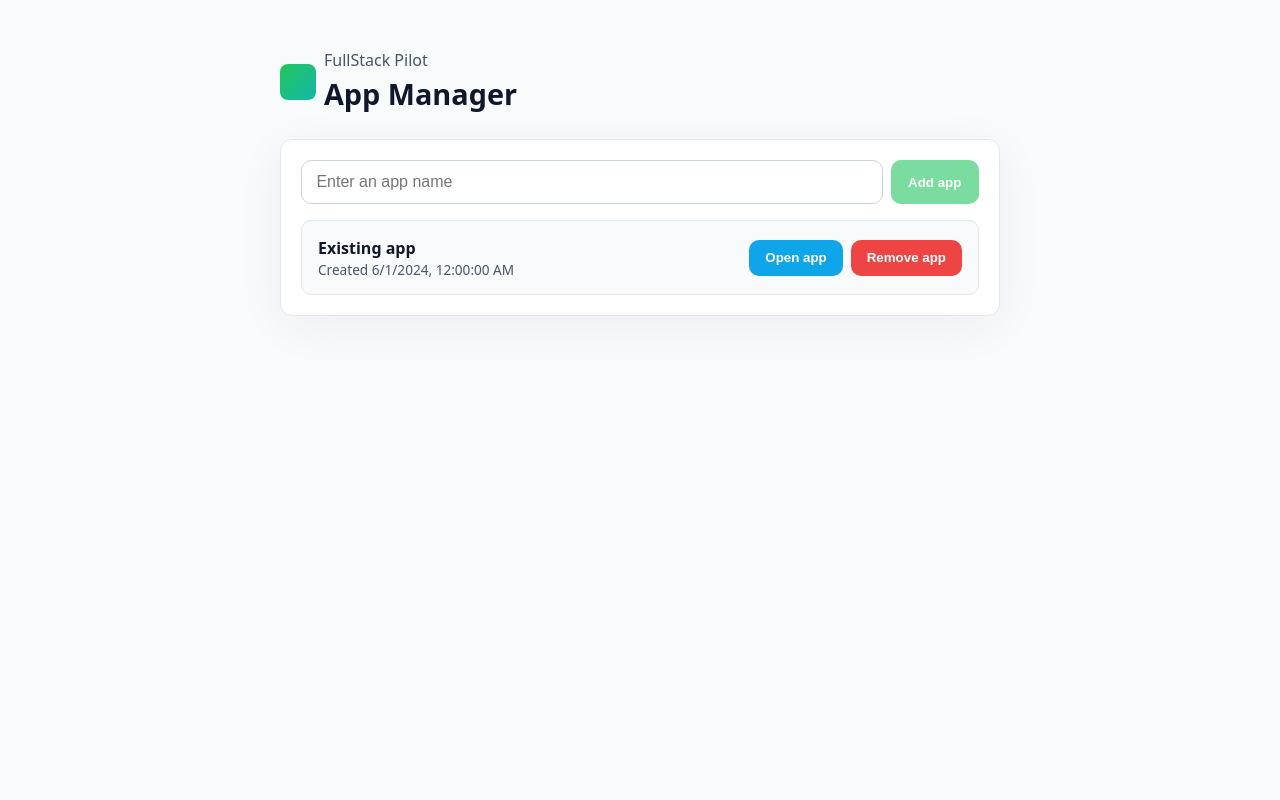
Scenario: App › opens an app modal and closes it with the close button
Expected: the text "Existing app" is shown, 318,237 -> 416,259
What coordinates should you click on to do the following:
click the button "Open app"
I would click on:
 (796, 258)
Its box is 749,240 -> 843,276.
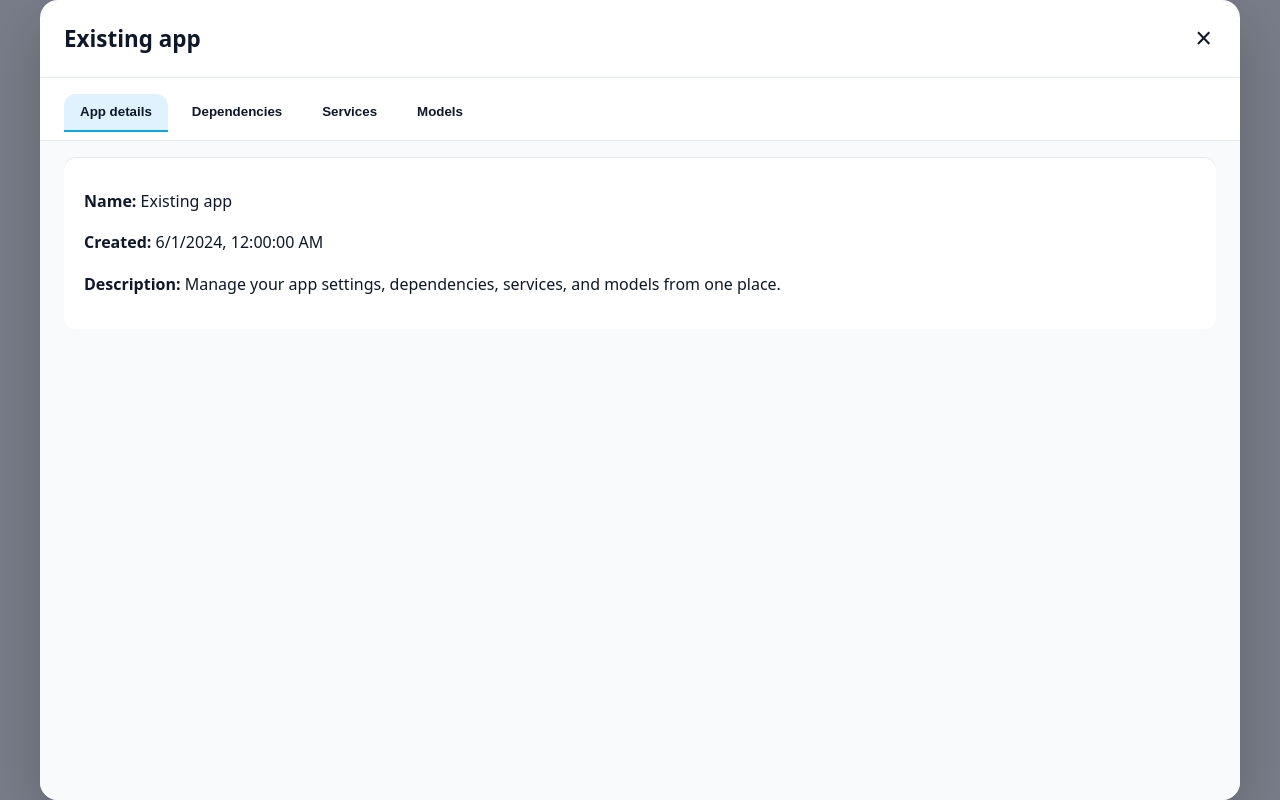
Expected: the dialog is shown
What coordinates should you click on to do the following:
click the button named "close"
I would click on:
 (1204, 38)
Its box is 1191,20 -> 1216,57.
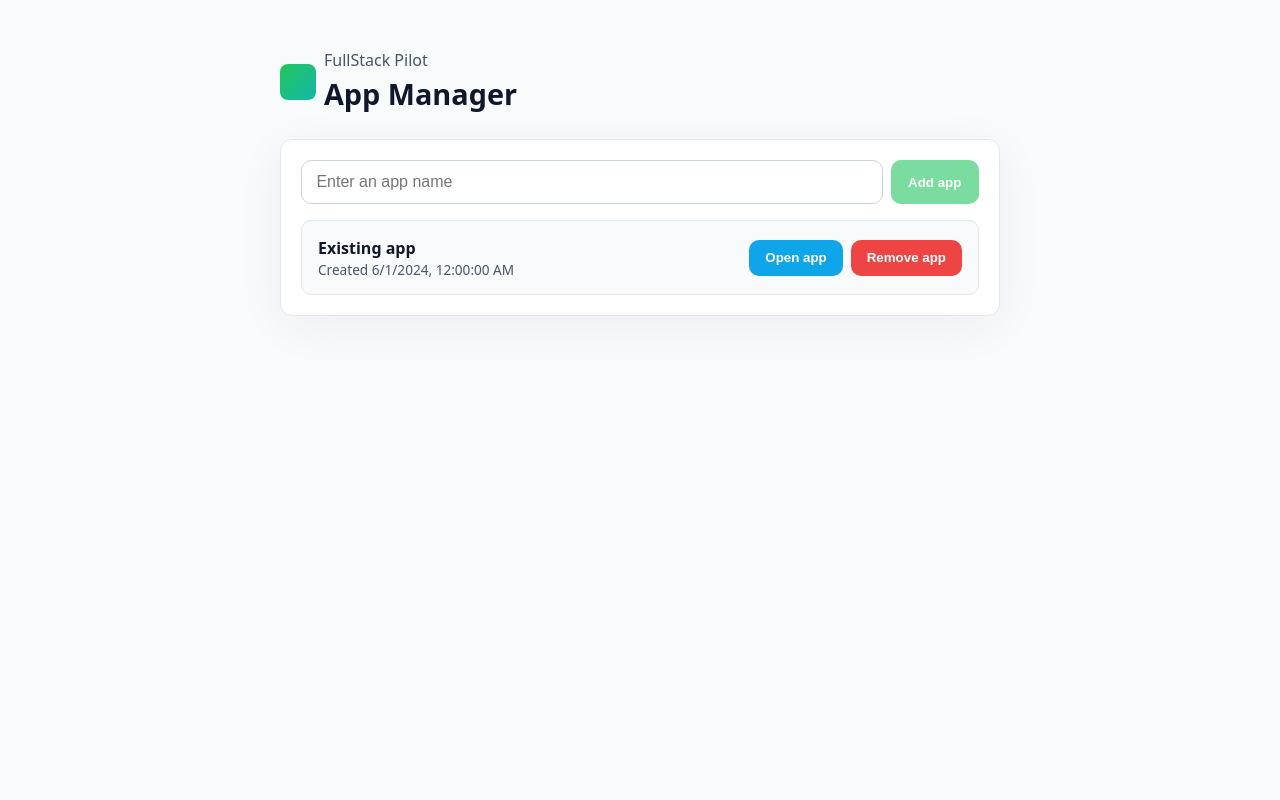
Expected: the dialog is gone
